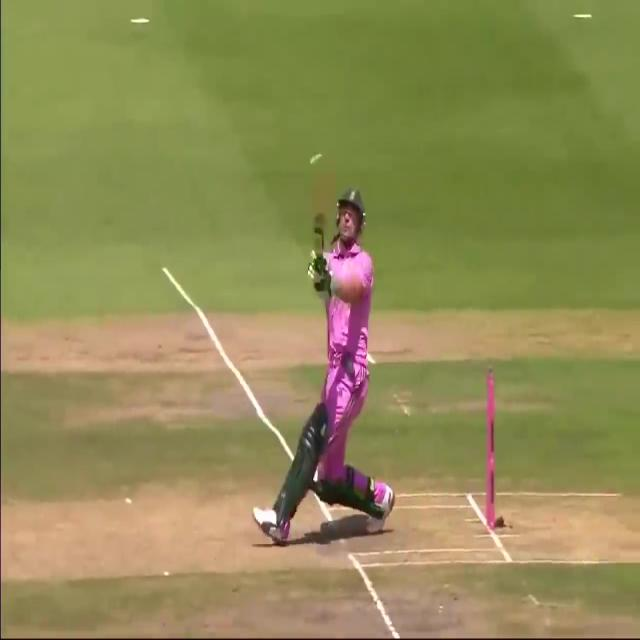Ball: (255, 182, 396, 545)
